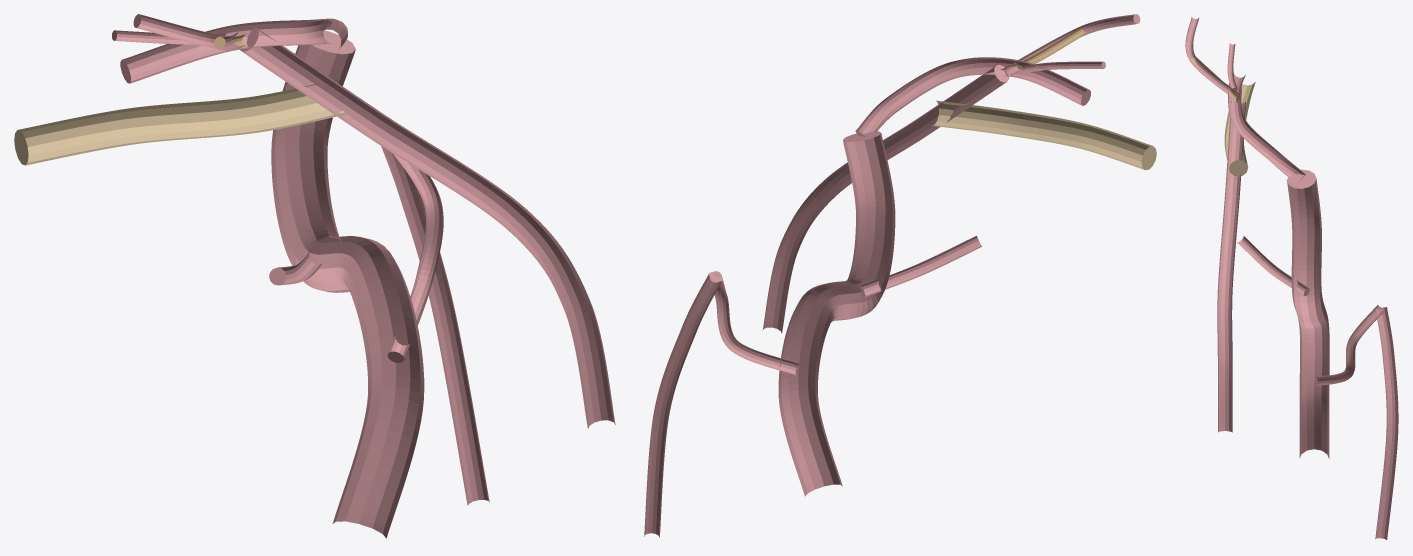
File: orbit_normal.glb
The picture shows the model from 3 angles, left to right: view 1: azimuth 30°, elevation 25°; view 2: azimuth 150°, elevation 25°; view 3: azimuth 270°, elevation 25°; orthographic projection. The views are drawn at different scales.
Visible parts, largest first — view 1: ACI — segmento cavernoso, Artéria meníngea média, Nervo óptico — orientação, Artéria faríngea ascendente, Oftálmica — origem habitual, Tronco meningohipofisário, Artéria lacrimal, Tronco inferolateral, Artéria central da retina (esquemática); view 2: ACI — segmento cavernoso, Artéria meníngea média, Nervo óptico — orientação, Artéria faríngea ascendente, Oftálmica — origem habitual, Tronco meningohipofisário, Tronco inferolateral, Artéria lacrimal, Artéria central da retina (esquemática); view 3: ACI — segmento cavernoso, Artéria meníngea média, Artéria faríngea ascendente, Oftálmica — origem habitual, Tronco meningohipofisário, Tronco inferolateral, Artéria lacrimal, Nervo óptico — orientação, Artéria central da retina (esquemática).
Boxes of the visible parts, x1,y1,x2,y2 form: ACI — segmento cavernoso: [271, 30, 424, 538]; Artéria meníngea média: [240, 27, 615, 428]; Nervo óptico — orientação: [14, 78, 349, 165]; Artéria faríngea ascendente: [381, 146, 489, 505]; Oftálmica — origem habitual: [120, 18, 347, 83]; Tronco meningohipofisário: [387, 153, 443, 362]; Artéria lacrimal: [133, 14, 244, 50]; Tronco inferolateral: [269, 251, 323, 285]; Artéria central da retina (esquemática): [112, 30, 226, 44]; ACI — segmento cavernoso: [778, 131, 895, 496]; Artéria meníngea média: [762, 64, 1009, 333]; Nervo óptico — orientação: [932, 100, 1156, 170]; Artéria faríngea ascendente: [644, 272, 722, 537]; Oftálmica — origem habitual: [855, 57, 1090, 142]; Tronco meningohipofisário: [710, 271, 799, 375]; Tronco inferolateral: [860, 235, 981, 296]; Artéria lacrimal: [1003, 14, 1140, 77]; Artéria central da retina (esquemática): [1021, 61, 1105, 73]; ACI — segmento cavernoso: [1287, 169, 1329, 458]; Artéria meníngea média: [1217, 101, 1245, 432]; Artéria faríngea ascendente: [1375, 307, 1398, 539]; Oftálmica — origem habitual: [1228, 70, 1305, 180]; Tronco meningohipofisário: [1315, 305, 1384, 385]; Tronco inferolateral: [1237, 235, 1309, 296]; Artéria lacrimal: [1185, 16, 1240, 100]; Nervo óptico — orientação: [1224, 76, 1255, 176]; Artéria central da retina (esquemática): [1227, 43, 1237, 90].
Bounding box in the file's own units: 4.89 × 5.86 × 2.87.
